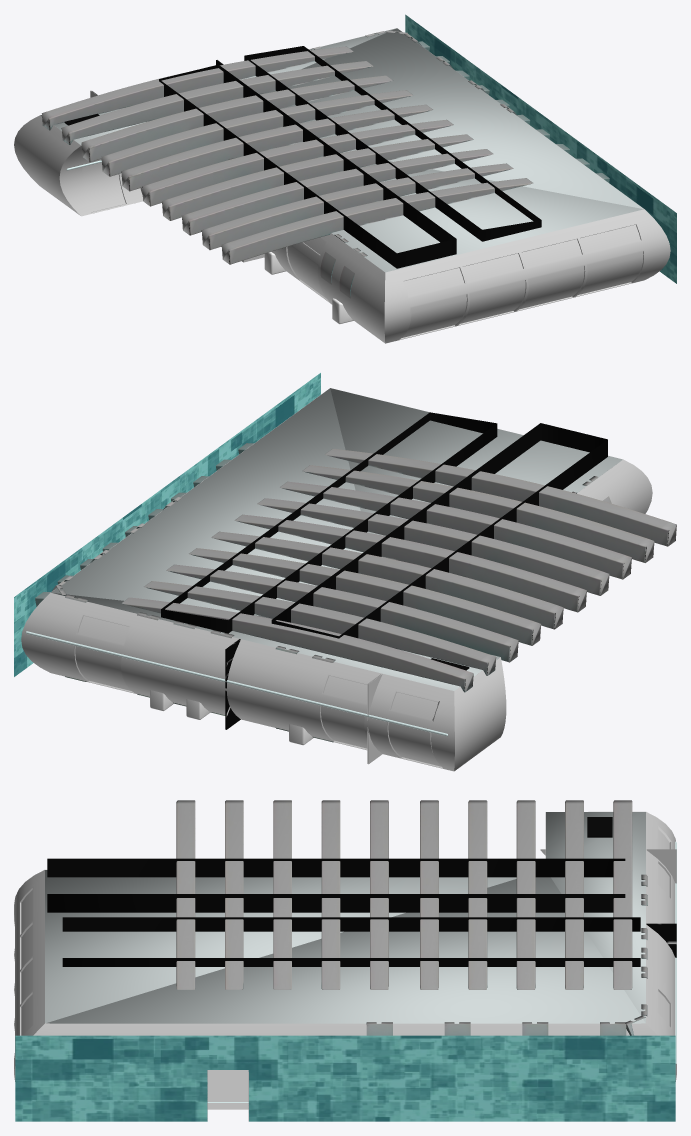
Rendered from L1- Science Lab - Q Space_v7.fbx.
The picture shows the model from 3 angles, top to bottom: view 1: azimuth 30°, elevation 25°; view 2: azimuth 150°, elevation 25°; view 3: azimuth 270°, elevation 25°; orthographic projection. The views are drawn at different scales.
Visible parts, largest first — view 1: _Pillars, _Walls, _Ceiling, _Ceiling Lights, _Ext Wall; view 2: _Pillars, _Walls, _Ceiling, _Ceiling Lights, _Ext Wall, _Light Tubes; view 3: _Ext Wall, _Ceiling, _Pillars, _Ceiling Lights, _Walls, _Floor, Cube, _Glass Wall 2.
Part boxes in pixels (x1,y1,x2,y2): _Pillars: [42, 30, 609, 298]; _Walls: [14, 28, 670, 343]; _Ceiling: [40, 28, 643, 272]; _Ceiling Lights: [159, 46, 541, 268]; _Ext Wall: [405, 14, 676, 283]; _Pillars: [35, 443, 676, 742]; _Walls: [21, 388, 652, 771]; _Ceiling: [51, 388, 622, 690]; _Ceiling Lights: [161, 412, 607, 638]; _Ext Wall: [14, 373, 320, 676]; _Light Tubes: [25, 631, 447, 736]; _Ext Wall: [15, 1035, 675, 1121]; _Ceiling: [45, 812, 645, 1023]; _Pillars: [176, 800, 647, 1035]; _Ceiling Lights: [47, 858, 640, 966]; _Walls: [14, 811, 676, 1121]; _Floor: [207, 1070, 248, 1109]; Cube: [587, 817, 612, 837]; _Glass Wall 2: [646, 923, 676, 957].
Size of the model in its own units: 3244 by 702 by 3925.
